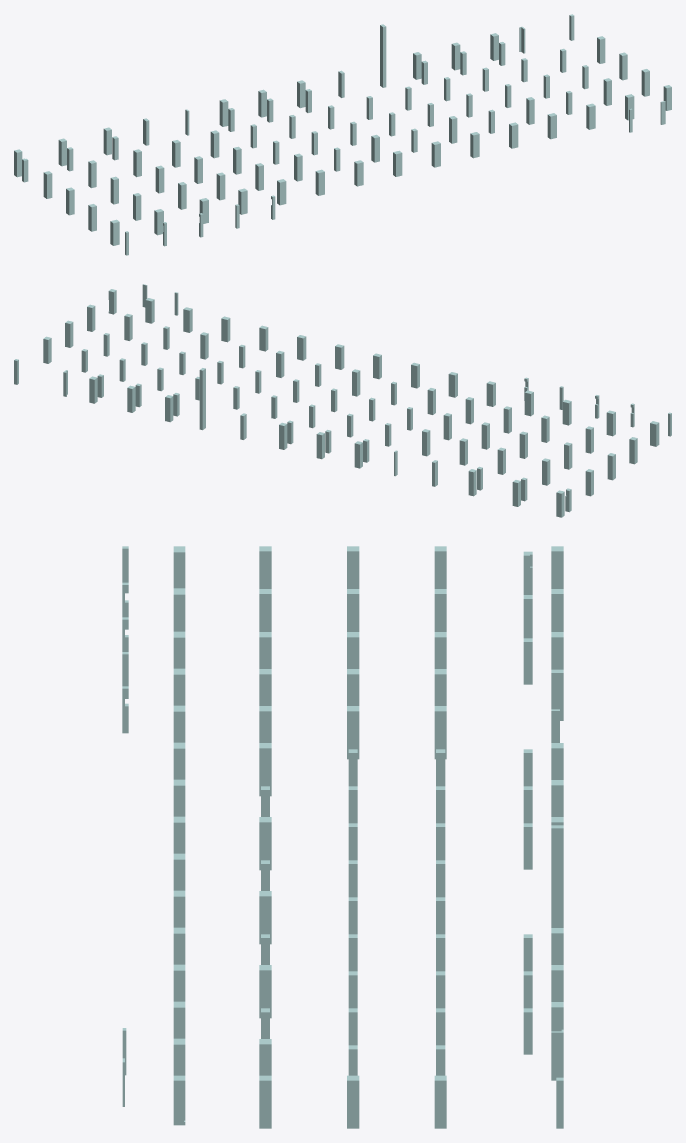
Rendered from detail-support-2-1f.glb.
The picture shows the model from 3 angles, top to bottom: view 1: azimuth 30°, elevation 25°; view 2: azimuth 150°, elevation 25°; view 3: azimuth 270°, elevation 25°; orthographic projection. The views are drawn at different scales.
Bounding box in the file's own units: 104 × 10.8 × 36.26.
